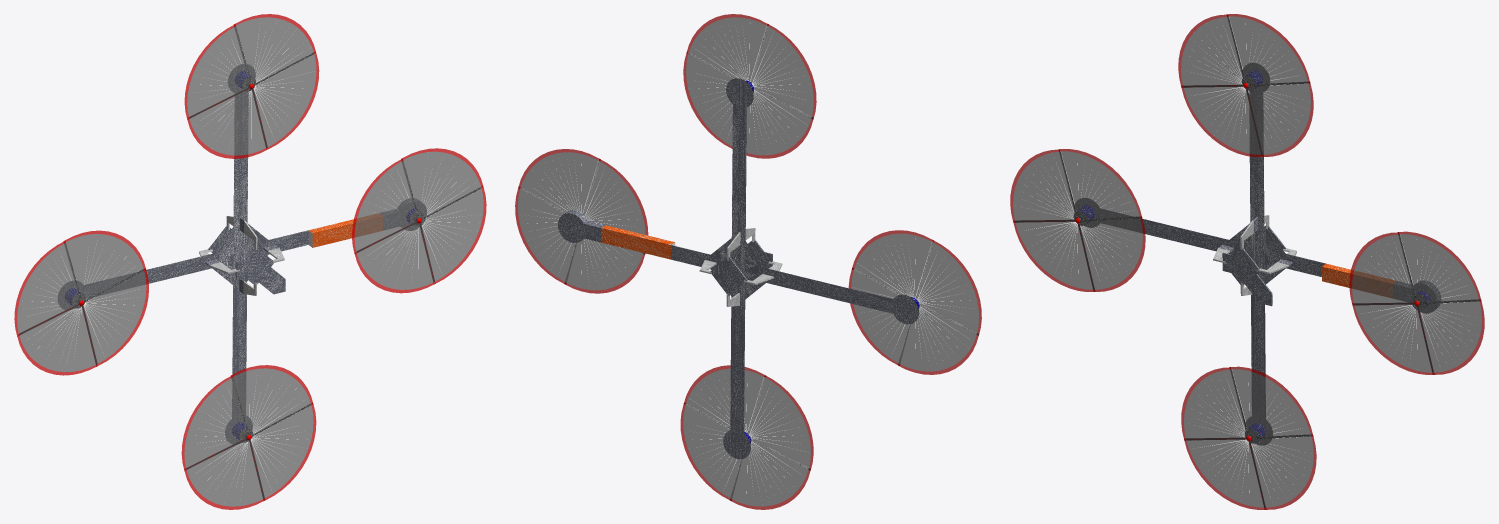
The model's file is quadrotor.dae.
The picture shows the model from 3 angles, left to right: view 1: azimuth 30°, elevation 25°; view 2: azimuth 150°, elevation 25°; view 3: azimuth 330°, elevation 25°; orthographic projection.
Parts seen in each view (by area): view 1: instance_0 (×4), instance_3 (×6), instance_10 (×6), instance_9 (×6), instance_8 (×5), instance_2; view 2: instance_0 (×4), instance_8 (×6), instance_9 (×6), instance_10 (×5), instance_3 (×5), instance_1; view 3: instance_0 (×4), instance_9 (×6), instance_3 (×5), instance_10 (×5), instance_8 (×5), instance_2.
Boxes of the visible parts, <box> form: instance_0 (×4): <box>57,64,426,443</box>; instance_3 (×6): <box>352,148,486,293</box>; instance_10 (×6): <box>184,14,319,158</box>; instance_9 (×6): <box>181,365,316,509</box>; instance_8 (×5): <box>14,230,148,375</box>; instance_2: <box>236,247,285,294</box>; instance_0 (×4): <box>558,78,919,459</box>; instance_8 (×6): <box>848,230,981,374</box>; instance_9 (×6): <box>680,365,813,509</box>; instance_10 (×5): <box>683,14,816,158</box>; instance_3 (×5): <box>515,149,648,293</box>; instance_1: <box>710,256,747,295</box>; instance_0 (×4): <box>1075,62,1441,445</box>; instance_9 (×6): <box>1181,366,1316,509</box>; instance_3 (×5): <box>1349,231,1484,374</box>; instance_10 (×5): <box>1178,14,1313,157</box>; instance_8 (×5): <box>1010,149,1145,291</box>; instance_2: <box>1222,248,1272,306</box>.
Bounding box in the file's own units: 26.44 × 2.8 × 26.44.
